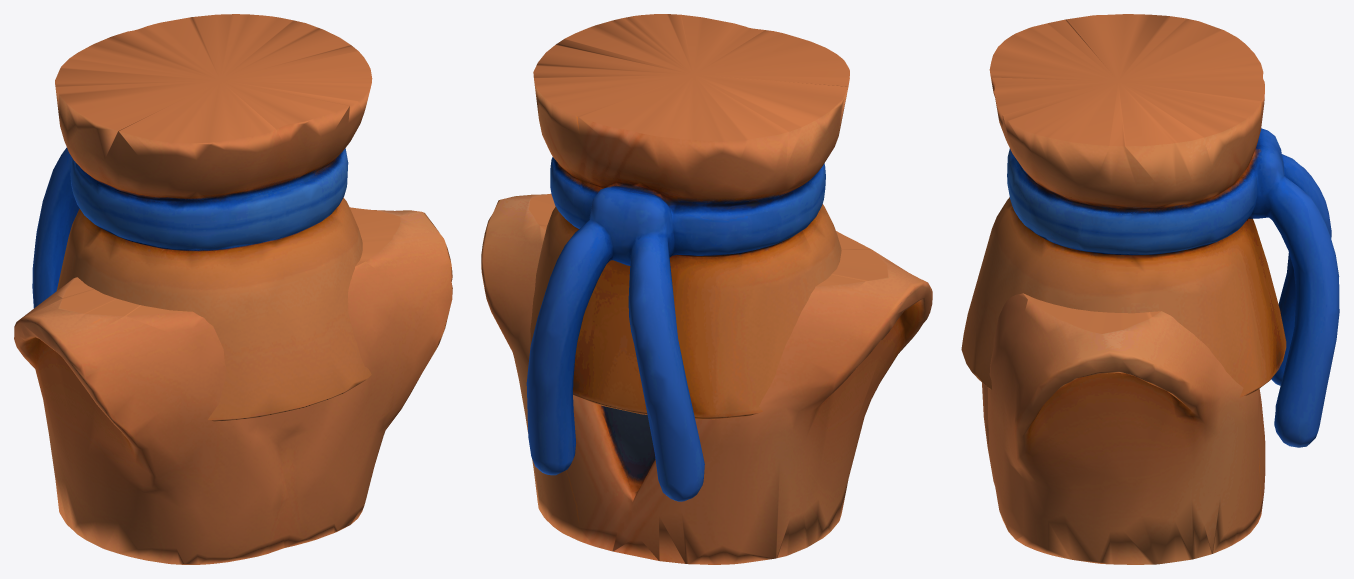
Rendered from torso-sensei3.glb.
3 views of the same model, side by side, from view 1: azimuth 30°, elevation 25°; view 2: azimuth 150°, elevation 25°; view 3: azimuth 270°, elevation 25° (orthographic).
Parts seen in each view (by area): view 1: torso__rbx, chest__rbx; view 2: torso__rbx, chest__rbx; view 3: torso__rbx, chest__rbx.
Part boxes in pixels (<box>): torso__rbx: <box>32,14,372,421</box>; chest__rbx: <box>14,207,452,564</box>; torso__rbx: <box>526,14,849,501</box>; chest__rbx: <box>481,193,932,564</box>; torso__rbx: <box>961,14,1339,447</box>; chest__rbx: <box>982,293,1265,564</box>.
Bounding box in the file's own units: 0.515 × 0.52 × 0.4234.
1 material, 1 textured.
